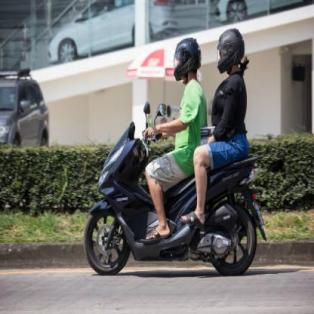Motocicleta: (80, 113, 260, 280)
